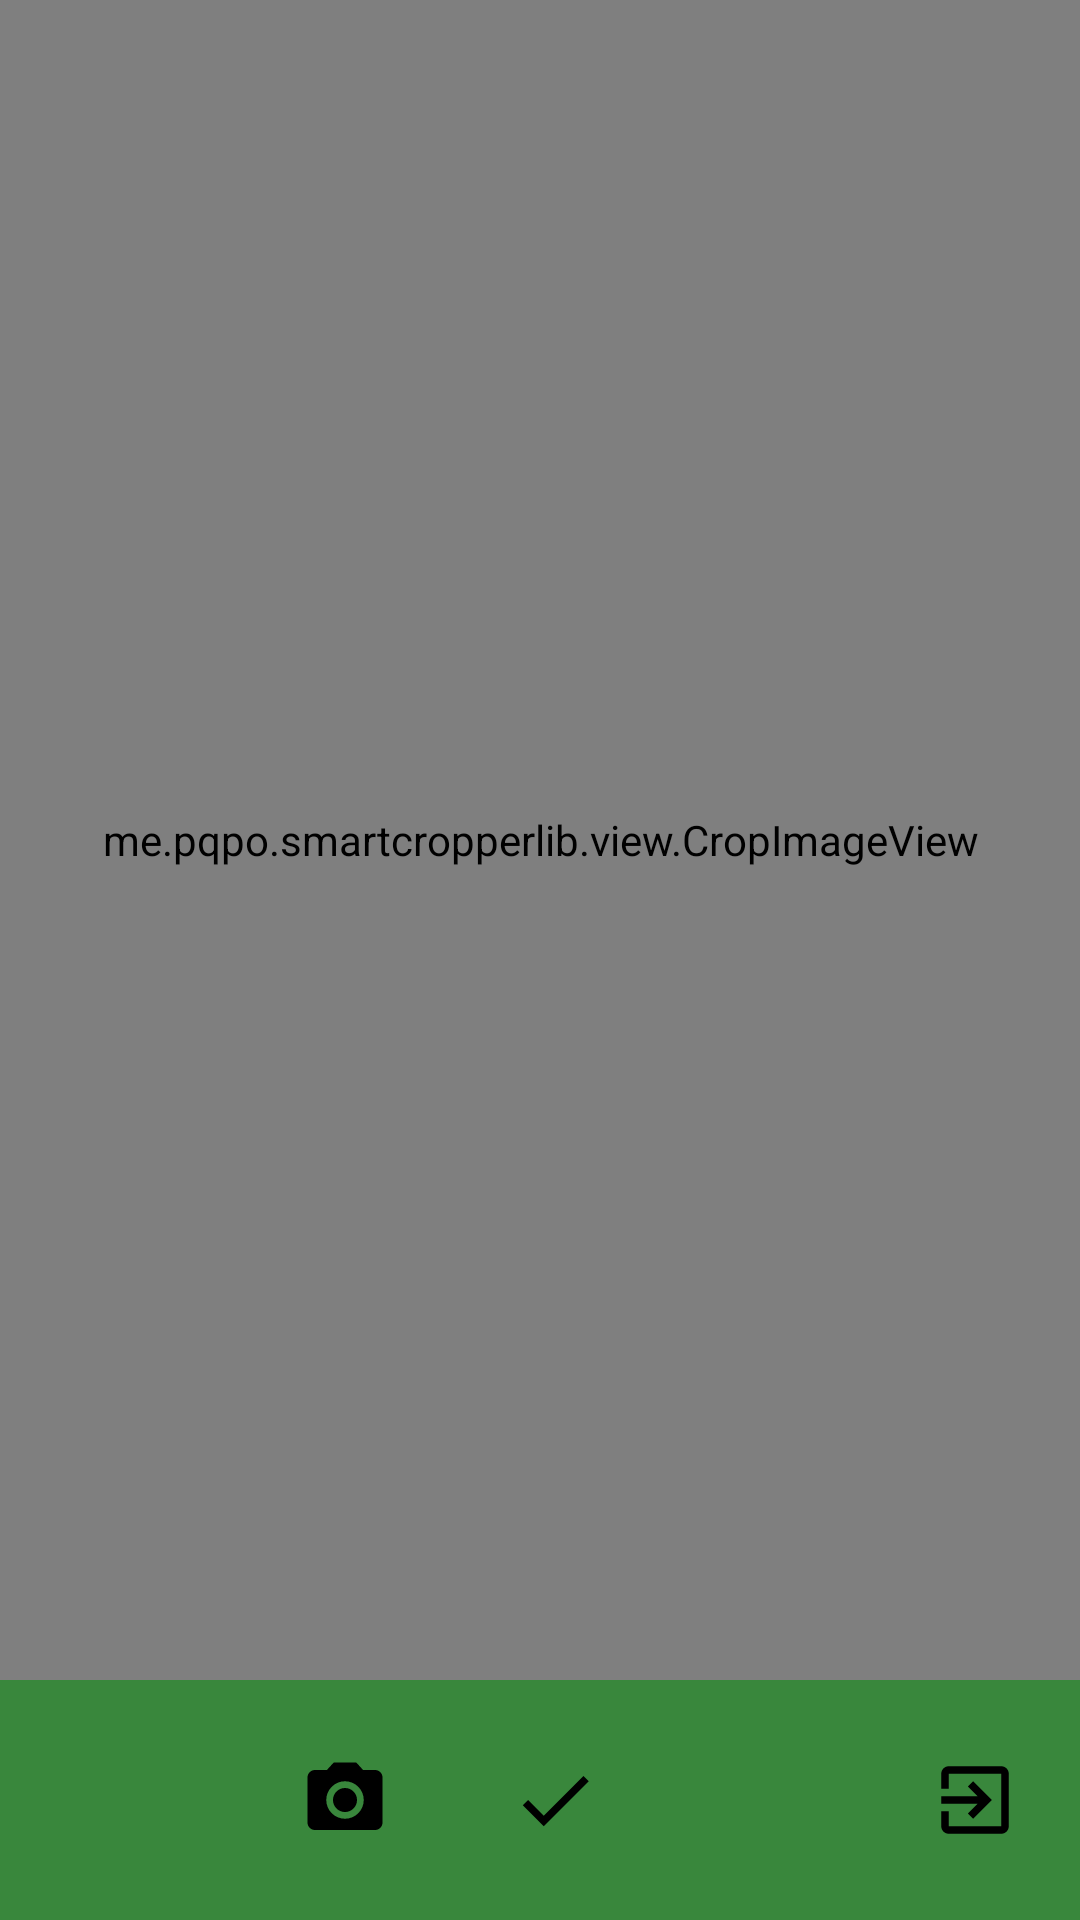

Icons on this 1080px x 1920px Android screen, each with its box as [x1, y1, x2, y2]:
exit: [941, 1766, 1009, 1834]
photo camera: [307, 1762, 383, 1830]
